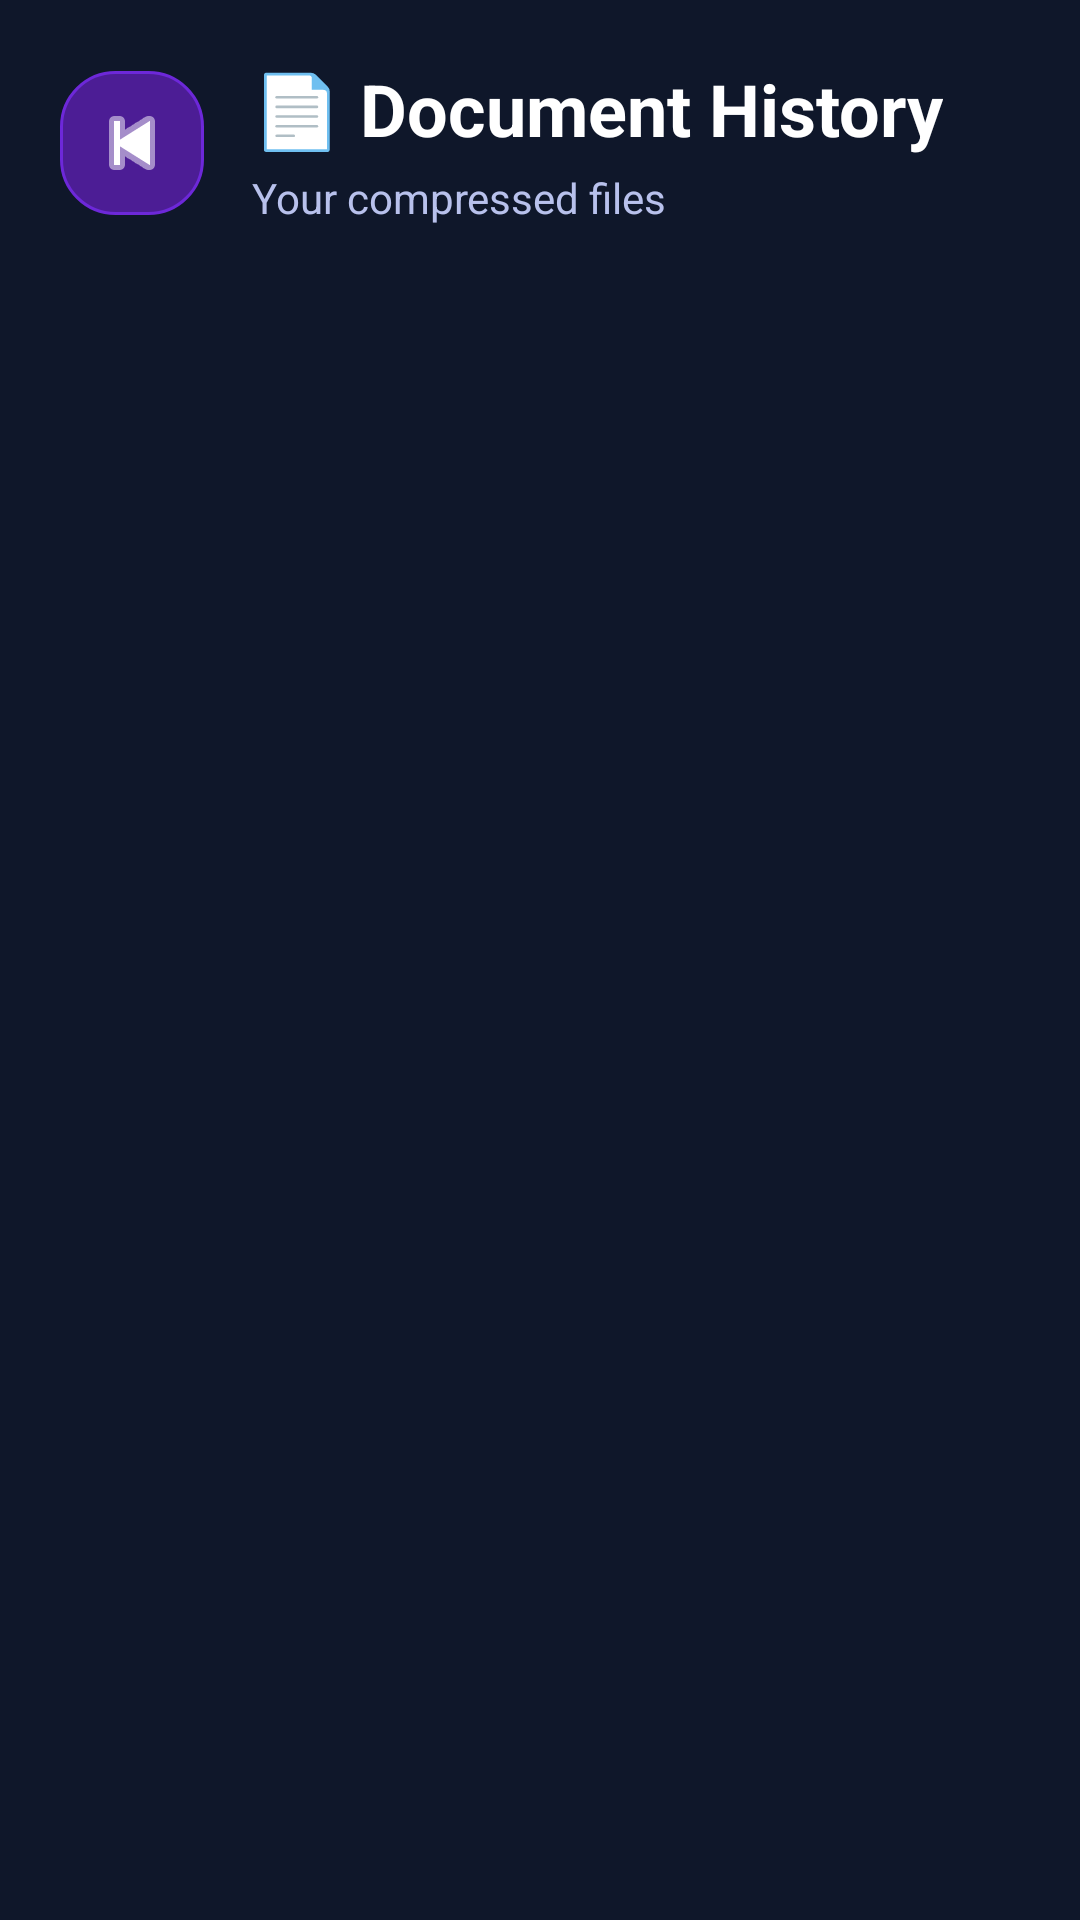

Screen size 1080px×1920px. Icon name, then its center in pixels as (x,y):
previous: (132,143)
